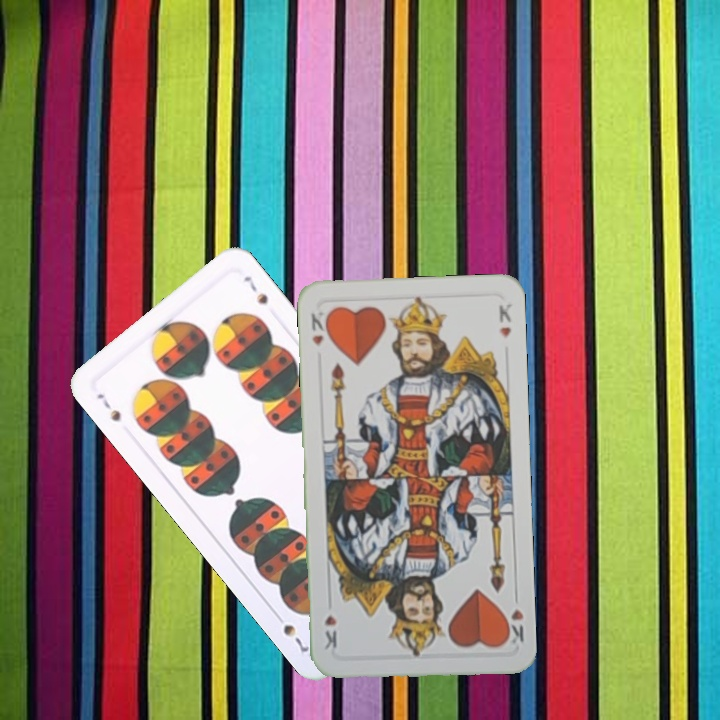HK: (500, 588, 527, 648), (307, 305, 332, 349)
S7: (92, 389, 124, 424)
